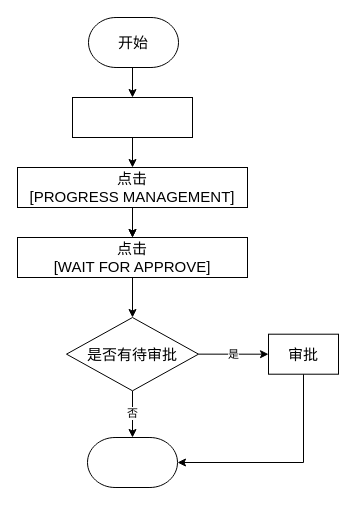
Some shapes in this 356 by 505 pixel diagram are drawn without their labels. The shapes that lost their labels are listed below. From the top down, each one's centre as x and y in pixels, then its label:
the point at 132,117: 进入系统主页面
the point at 132,462: 结束
